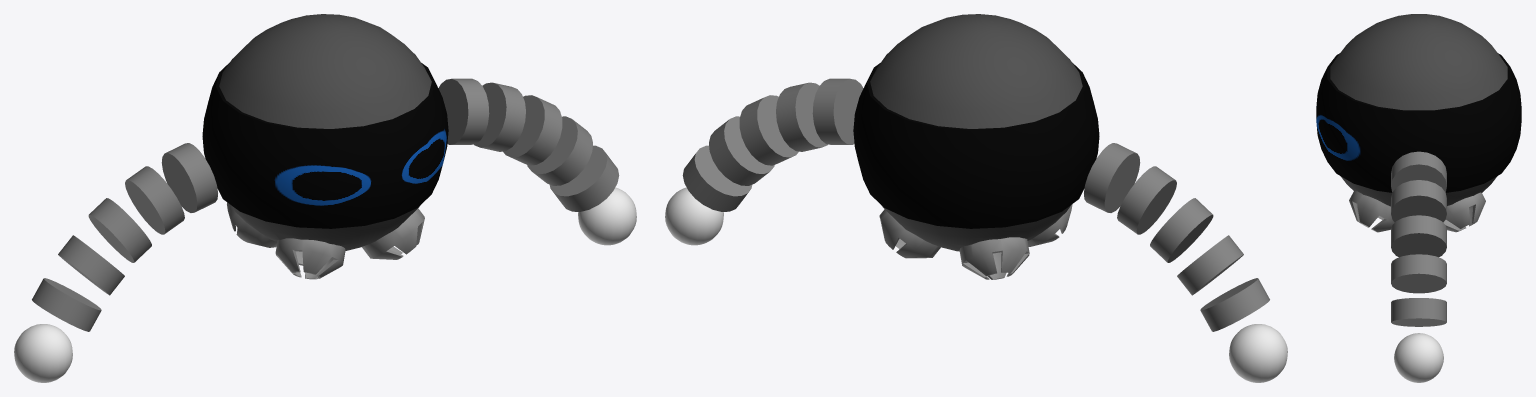
The model's file is AlienSoldier.fbx.
3 renders of one model, left to right at view 1: azimuth 30°, elevation 25°; view 2: azimuth 150°, elevation 25°; view 3: azimuth 270°, elevation 25°, orthographic. The views are drawn at different scales.
Parts seen in each view (by area): view 1: pPipe5, polySurface20, polySurface19, polySurface13, polySurface11, polySurface18, polySurface10, polySurface12, polySurface9, polySurface14, polySurface17, polySurface16 (+1 smaller); view 2: pPipe5, polySurface20, polySurface19, polySurface13, polySurface11, polySurface18, polySurface10, polySurface12, polySurface9, polySurface14, polySurface17, polySurface16 (+1 smaller); view 3: pPipe5, polySurface11, polySurface14, polySurface9, polySurface12, polySurface13, polySurface10.
Part boxes in pixels (bbox=[...]): pPipe5: bbox=[202, 14, 448, 279]; polySurface20: bbox=[14, 324, 72, 382]; polySurface19: bbox=[161, 143, 217, 212]; polySurface13: bbox=[438, 78, 489, 144]; polySurface11: bbox=[503, 95, 562, 165]; polySurface18: bbox=[125, 166, 184, 234]; polySurface10: bbox=[549, 145, 619, 211]; polySurface12: bbox=[474, 82, 525, 151]; polySurface9: bbox=[527, 116, 592, 185]; polySurface14: bbox=[578, 187, 636, 245]; polySurface17: bbox=[88, 198, 151, 262]; polySurface16: bbox=[32, 278, 101, 331]; pPipe5: bbox=[853, 14, 1099, 279]; polySurface20: bbox=[1229, 324, 1287, 382]; polySurface19: bbox=[1084, 143, 1140, 212]; polySurface13: bbox=[812, 78, 863, 144]; polySurface11: bbox=[739, 95, 798, 165]; polySurface18: bbox=[1117, 166, 1176, 234]; polySurface10: bbox=[682, 145, 752, 211]; polySurface12: bbox=[776, 82, 827, 151]; polySurface9: bbox=[709, 116, 774, 185]; polySurface14: bbox=[665, 187, 723, 245]; polySurface17: bbox=[1150, 198, 1213, 262]; polySurface16: bbox=[1200, 278, 1269, 331]; pPipe5: bbox=[1316, 14, 1521, 232]; polySurface11: bbox=[1391, 215, 1446, 257]; polySurface14: bbox=[1394, 333, 1443, 382]; polySurface9: bbox=[1391, 254, 1446, 293]; polySurface12: bbox=[1391, 180, 1446, 222]; polySurface13: bbox=[1391, 151, 1446, 192]; polySurface10: bbox=[1391, 298, 1446, 326].
Bounding box in the file's own units: 5.94 × 2.64 × 2.04.
Materials: 3 (1 with a texture image).
